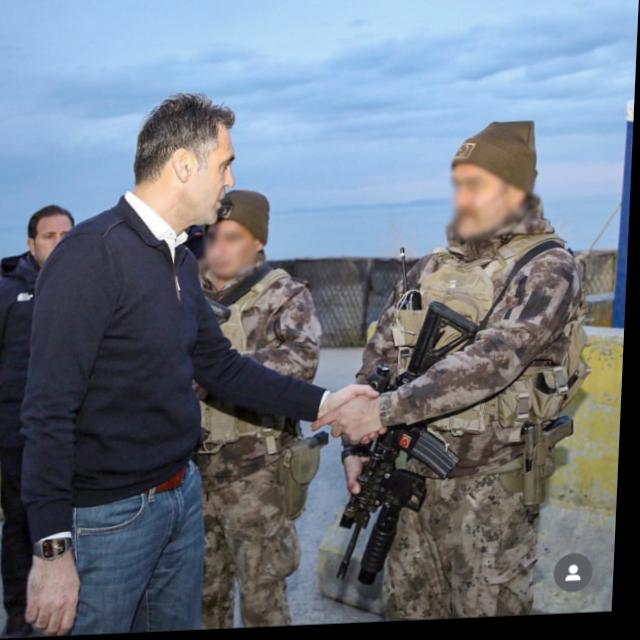poh_personel: (354, 123, 598, 627)
